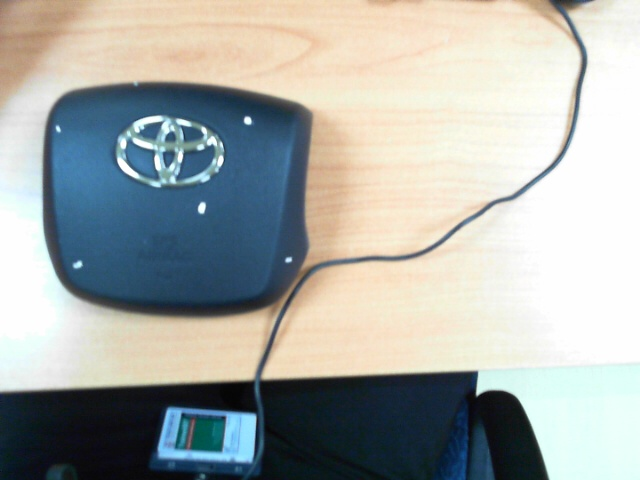Airbag: (243, 115, 253, 126), (197, 202, 206, 214), (72, 260, 83, 269), (284, 255, 293, 264), (133, 80, 139, 87), (56, 125, 61, 133)
